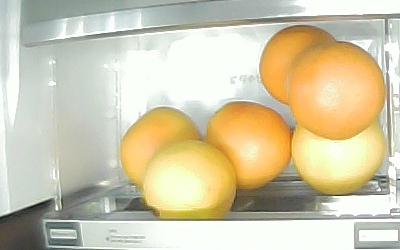grapefruit: (289, 41, 386, 140), (206, 101, 291, 192), (143, 140, 236, 221), (291, 122, 387, 196), (120, 106, 203, 191), (259, 26, 335, 106)
